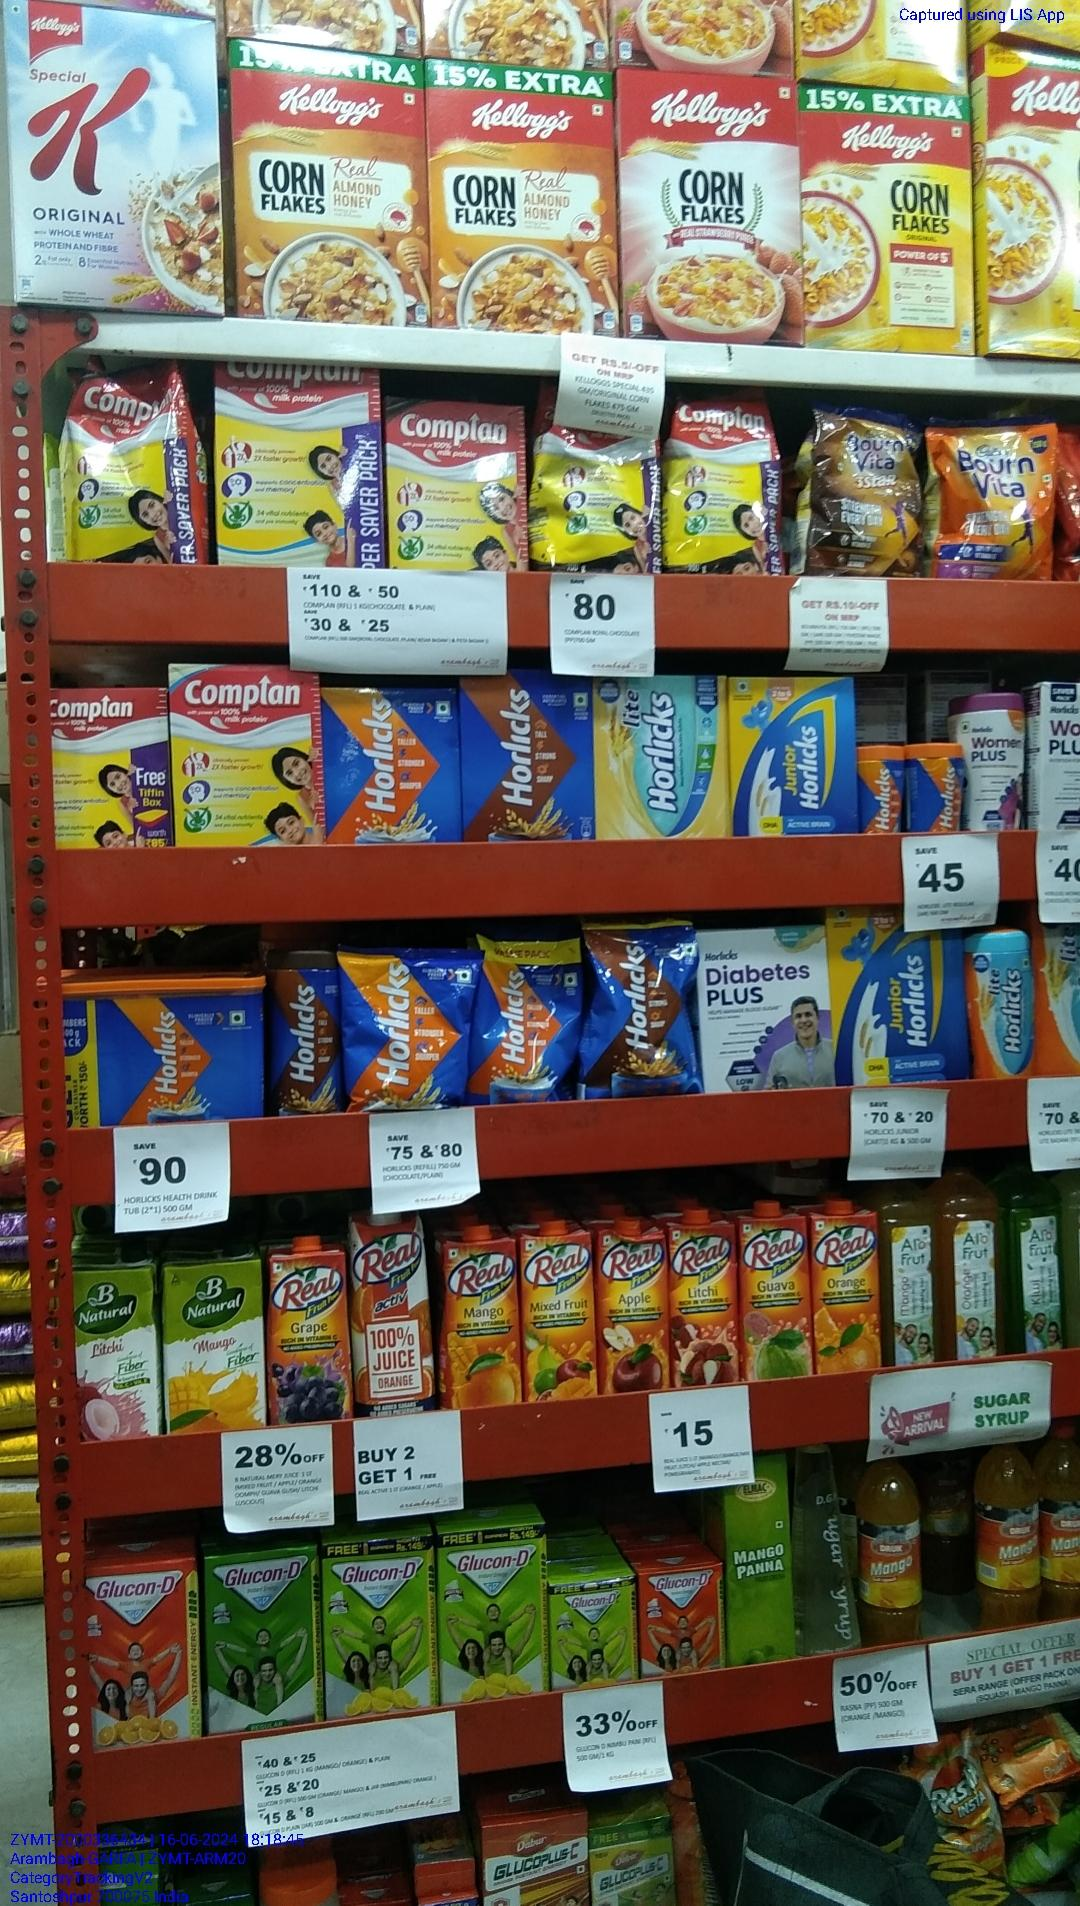BOURN_VITA_FIVE_STAR_MAGIC_750_G_POUCH: (814, 408, 924, 576)
COMPLAN_RC_POUCH_700_GMS_12: (62, 360, 206, 563), (664, 398, 780, 571), (530, 424, 660, 573)
HORLICKS_LITE_REGULAR_MALT_500_GM_JAR: (969, 928, 1037, 1081)
HORLICK_MALT_1_KG_CONTAINER: (64, 967, 263, 1127)
